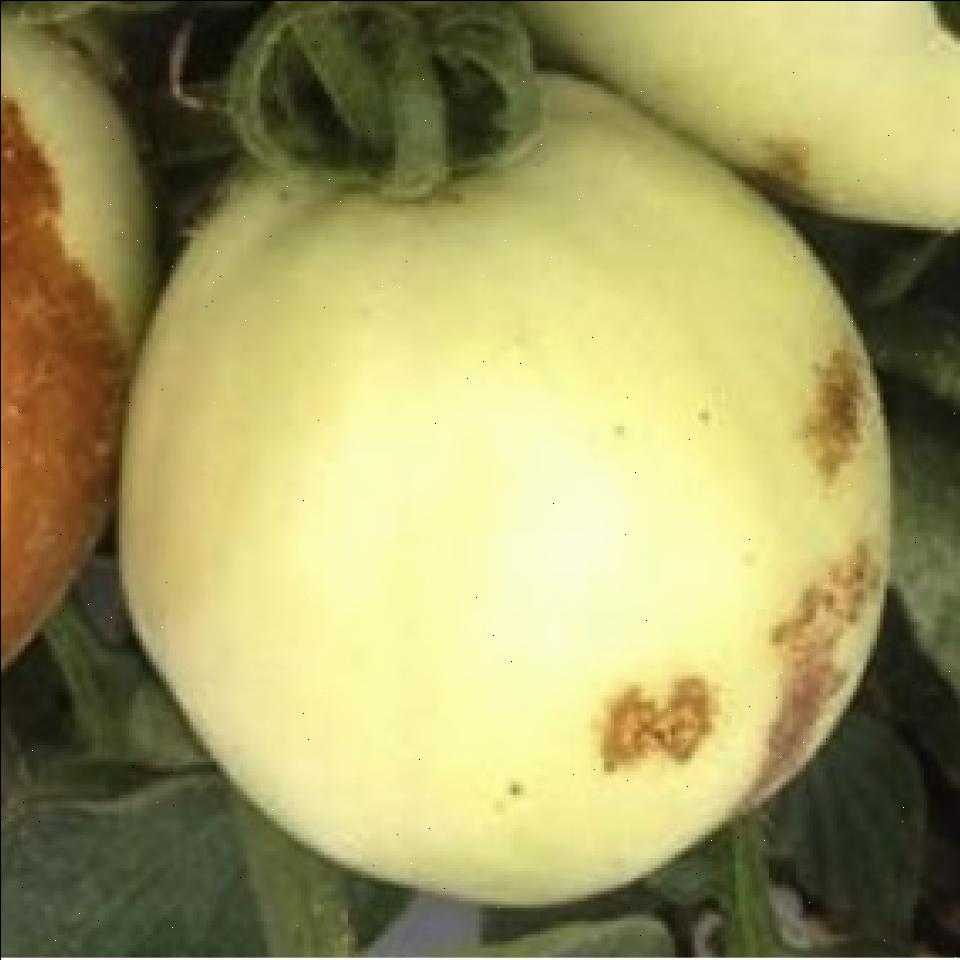Spotted wilt Virus: (110, 63, 897, 907)
